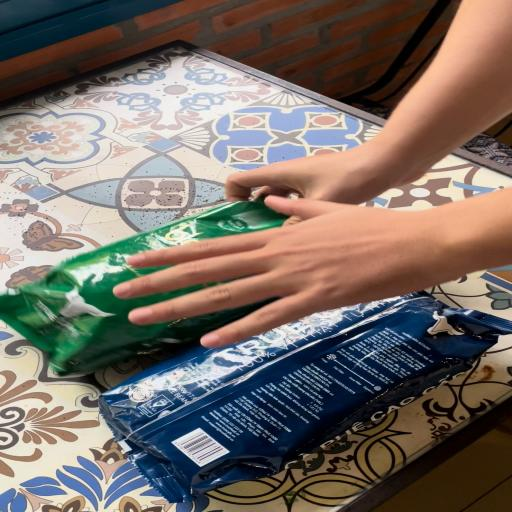cafe_hat: (100, 292, 512, 503)
cafe_xay: (0, 201, 285, 373)
